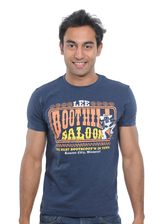clothoes: (25, 73, 144, 216)
